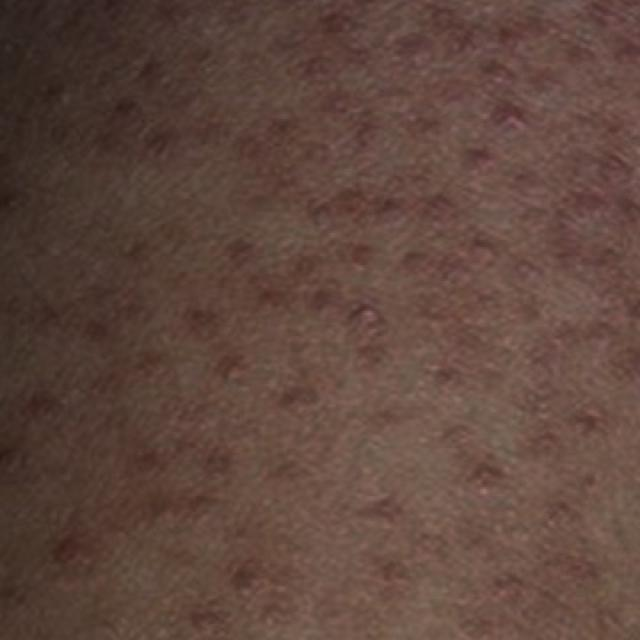keratosis pilaris: (0, 0, 610, 514)
